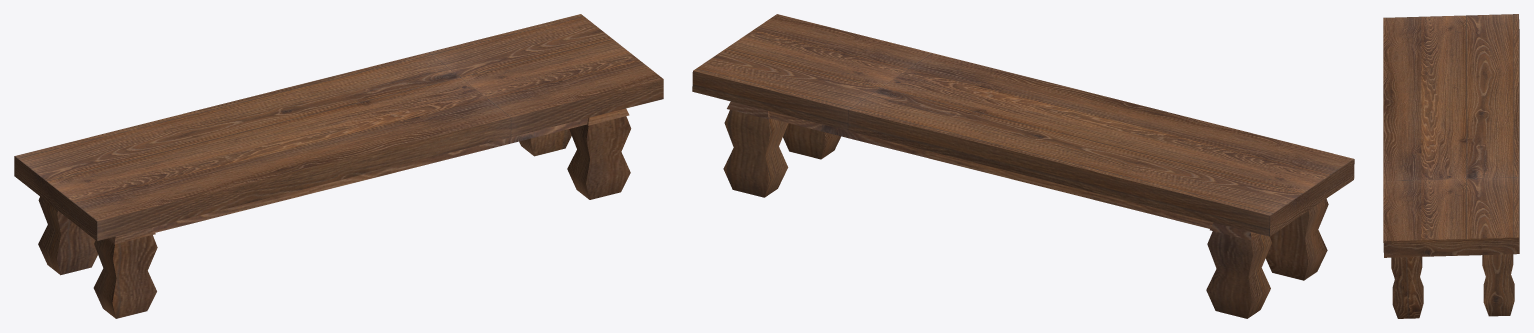
Rendered from panca_corta.gltf.
3 views of the same model, side by side, from view 1: azimuth 30°, elevation 25°; view 2: azimuth 150°, elevation 25°; view 3: azimuth 270°, elevation 25° (orthographic). The views are drawn at different scales.
Parts seen in each view (by area): view 1: Box777_temn goriz_0; view 2: Box777_temn goriz_0; view 3: Box777_temn goriz_0.
Part boxes in pixels (<box>): Box777_temn goriz_0: <box>14,14,663,318</box>; Box777_temn goriz_0: <box>692,14,1354,318</box>; Box777_temn goriz_0: <box>1383,14,1519,318</box>.
Size of the model in its own units: 37.74 by 7.61 by 9.57.
